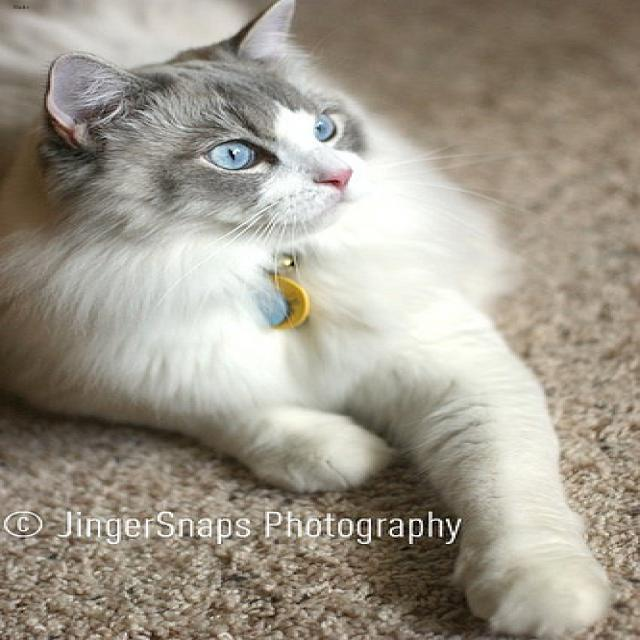Ragdoll: (41, 0, 379, 246)
